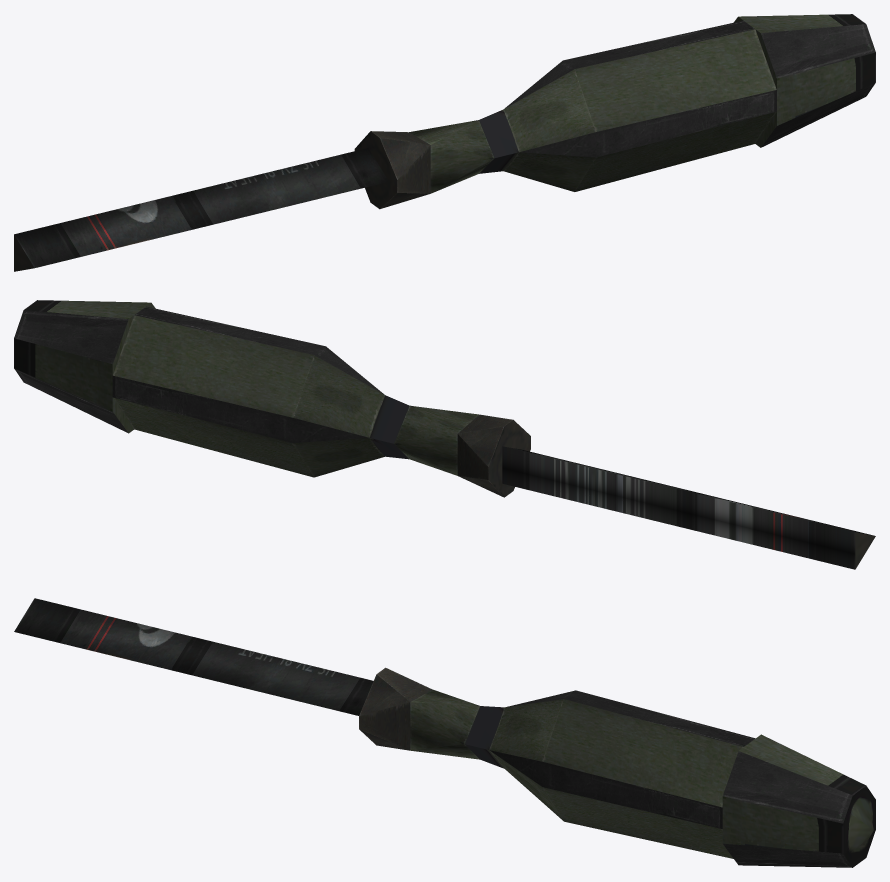
File: t6_attach_mag_usrpg_world_LOD1.obj
3 views of the same model, one above another, from view 1: azimuth 30°, elevation 25°; view 2: azimuth 150°, elevation 25°; view 3: azimuth 330°, elevation 25° (orthographic).
Parts seen in each view (by area): view 1: mtl_t6_wpn_launch_usrpg, mtl_t6_wpn_launch_usrpg_camo3; view 2: mtl_t6_wpn_launch_usrpg, mtl_t6_wpn_launch_usrpg_camo3; view 3: mtl_t6_wpn_launch_usrpg, mtl_t6_wpn_launch_usrpg_camo3.
Boxes of the visible parts, x1,y1,x2,y2 form: mtl_t6_wpn_launch_usrpg: (14, 14, 875, 271); mtl_t6_wpn_launch_usrpg_camo3: (354, 20, 875, 209); mtl_t6_wpn_launch_usrpg: (14, 300, 875, 569); mtl_t6_wpn_launch_usrpg_camo3: (14, 306, 530, 497); mtl_t6_wpn_launch_usrpg: (14, 598, 875, 867); mtl_t6_wpn_launch_usrpg_camo3: (359, 667, 852, 867).
Size of the model in its own units: 59.24 by 8.19 by 6.61.
